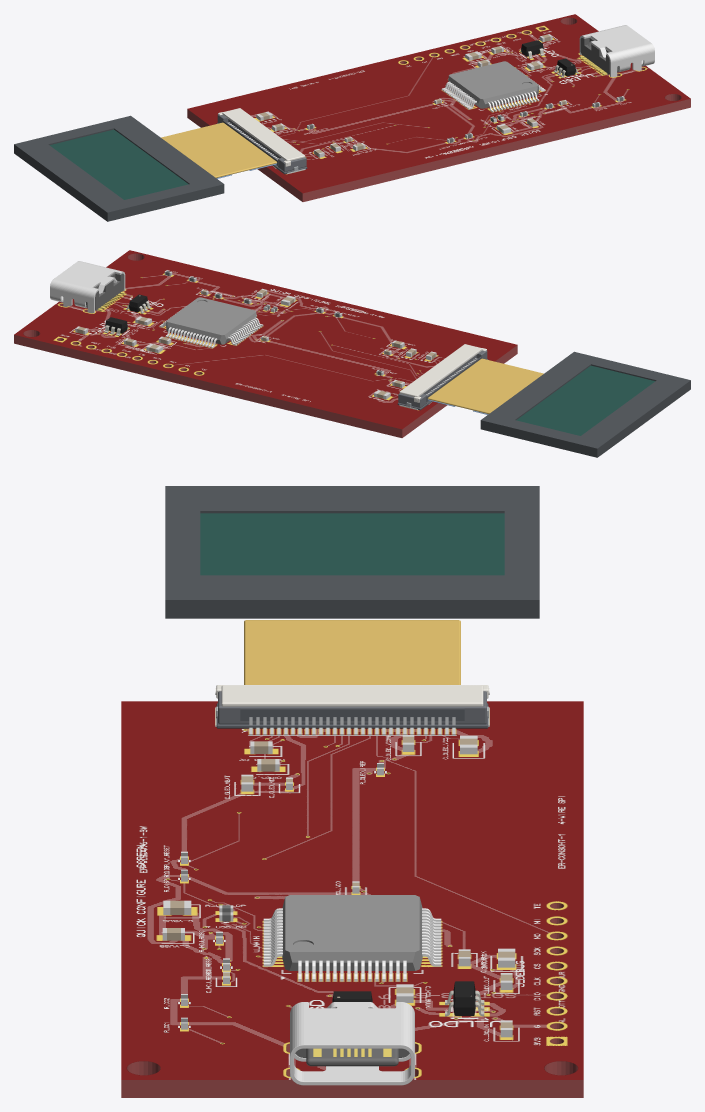
The picture shows the model from 3 angles, top to bottom: view 1: azimuth 30°, elevation 25°; view 2: azimuth 150°, elevation 25°; view 3: azimuth 270°, elevation 25°; orthographic projection. The views are drawn at different scales.
Parts seen in each view (by area): view 1: Box0, J_DISPLAY, U_MAIN, J_USB; view 2: Box0, J_DISPLAY, U_MAIN, J_USB, U_LDO; view 3: Box0, J_DISPLAY, U_MAIN, J_USB, U_LDO.
Part boxes in pixels (<box>): Box0: <box>187,14,690,201</box>; J_DISPLAY: <box>14,108,307,221</box>; U_MAIN: <box>441,61,545,112</box>; J_USB: <box>579,25,654,77</box>; Box0: <box>14,250,517,437</box>; J_DISPLAY: <box>397,344,690,457</box>; U_MAIN: <box>159,297,263,348</box>; J_USB: <box>50,261,125,313</box>; U_LDO: <box>104,317,128,335</box>; Box0: <box>121,701,583,1097</box>; J_DISPLAY: <box>165,486,539,735</box>; U_MAIN: <box>263,895,441,981</box>; J_USB: <box>290,1002,414,1085</box>; U_LDO: <box>445,981,484,1016</box>.
Size of the model in its own units: 95.41 by 4.65 by 33.
27 materials, 2 textured.
